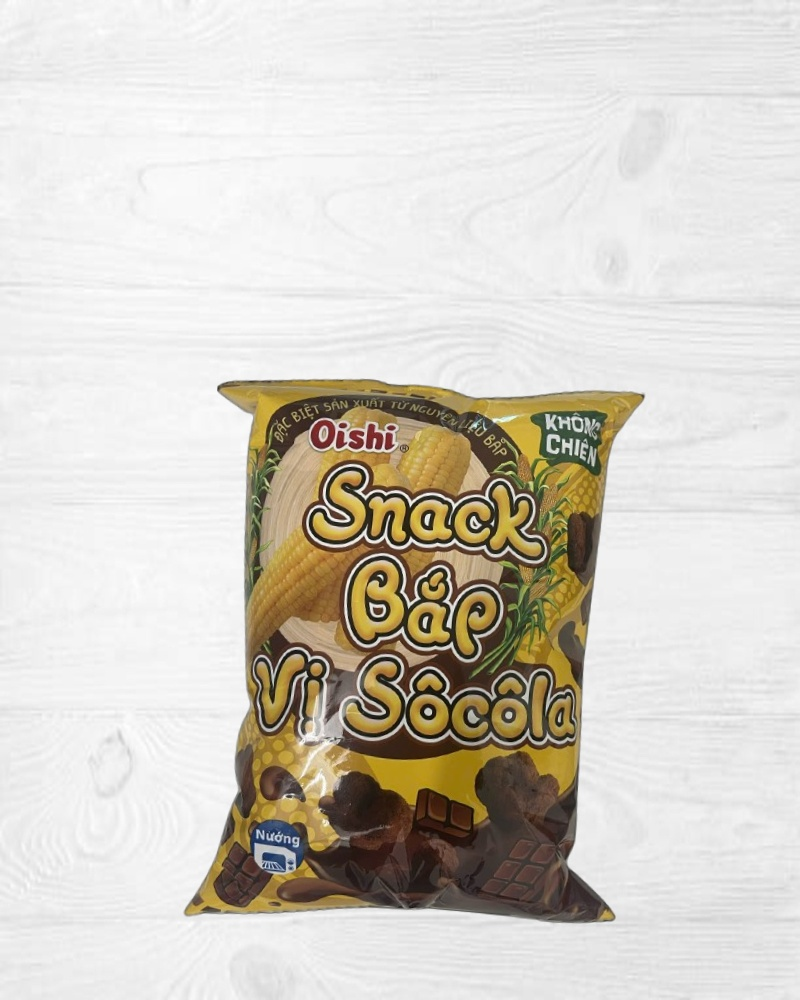Snack socola: (175, 361, 661, 942)
